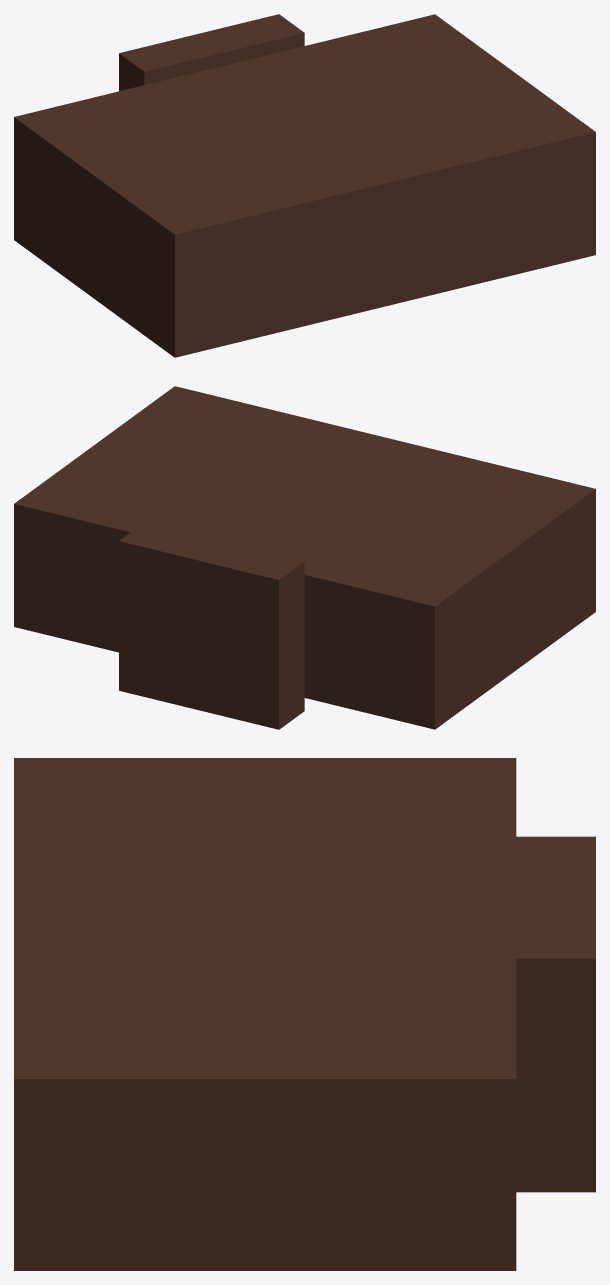
The model's file is Thor_Belt 1.FBX.
3 views of the same model, one above another, from view 1: azimuth 30°, elevation 25°; view 2: azimuth 150°, elevation 25°; view 3: azimuth 270°, elevation 25° (orthographic). The views are drawn at different scales.
Parts seen in each view (by area): view 1: Belt_Thor; view 2: Belt_Thor; view 3: Belt_Thor.
Part boxes in pixels (left/top/right/bottom): Belt_Thor: left=14, top=14, right=595, bottom=357; Belt_Thor: left=14, top=386, right=595, bottom=729; Belt_Thor: left=14, top=758, right=595, bottom=1270.
Size of the model in its own units: 10.98 by 8.42 by 3.73.
1 material, 1 textured.
